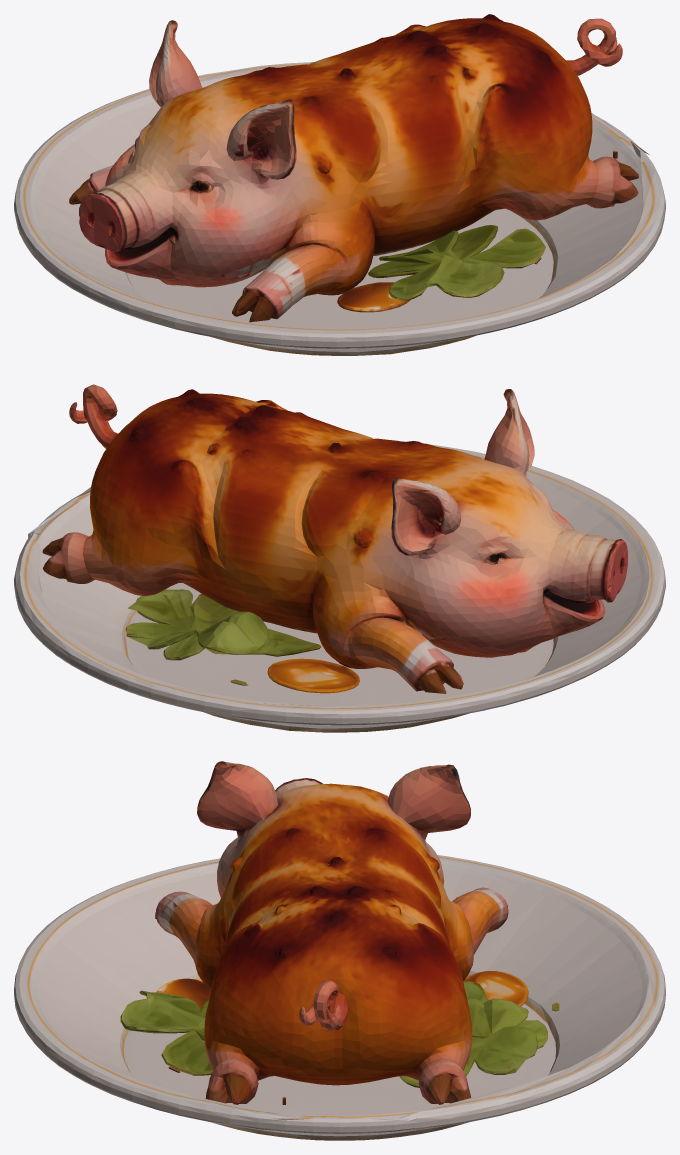
The model's file is KaoRuZhu_01.fbx.
3 renders of one model, top to bottom at view 1: azimuth 30°, elevation 25°; view 2: azimuth 150°, elevation 25°; view 3: azimuth 270°, elevation 25°, orthographic.
Parts seen in each view (by area): view 1: material; view 2: material; view 3: material.
Part boxes in pixels (x1,y1,x2,y2): material: [14, 14, 665, 355]; material: [14, 384, 665, 732]; material: [14, 761, 665, 1140].
Size of the model in its own units: 0.019 by 0.00756 by 0.019.
1 material, 1 textured.
